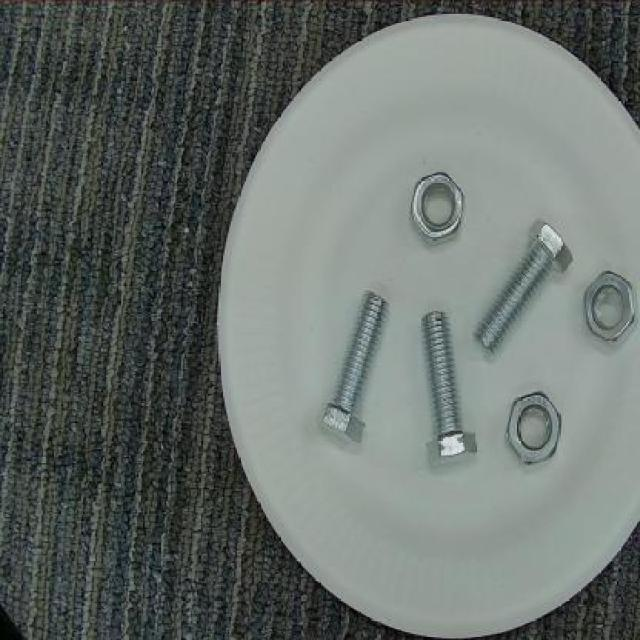Bolt: (471, 217, 574, 354), (310, 289, 394, 451), (419, 304, 482, 476)
Nut: (410, 166, 468, 245), (584, 266, 638, 346), (505, 389, 560, 466)
